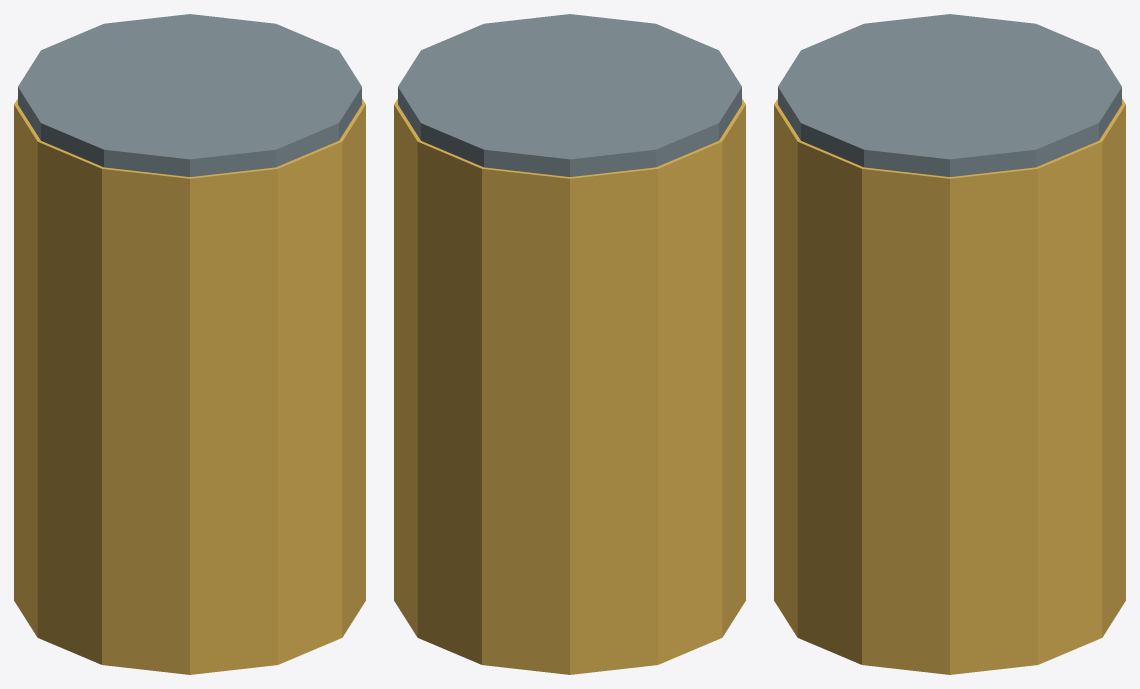
Rendered from Prop_ProductCan.fbx.
3 renders of one model, left to right at view 1: azimuth 30°, elevation 25°; view 2: azimuth 150°, elevation 25°; view 3: azimuth 270°, elevation 25°, orthographic.
Parts seen in each view (by area): view 1: Can, Lid; view 2: Can, Lid; view 3: Can, Lid.
Boxes of the visible parts, x1,y1,x2,y2 form: Can: (14, 98, 365, 674); Lid: (18, 14, 361, 176); Can: (394, 98, 745, 674); Lid: (398, 14, 741, 176); Can: (774, 98, 1125, 674); Lid: (778, 14, 1121, 176).
Size of the model in its own units: 0.09 by 0.145 by 0.09.
